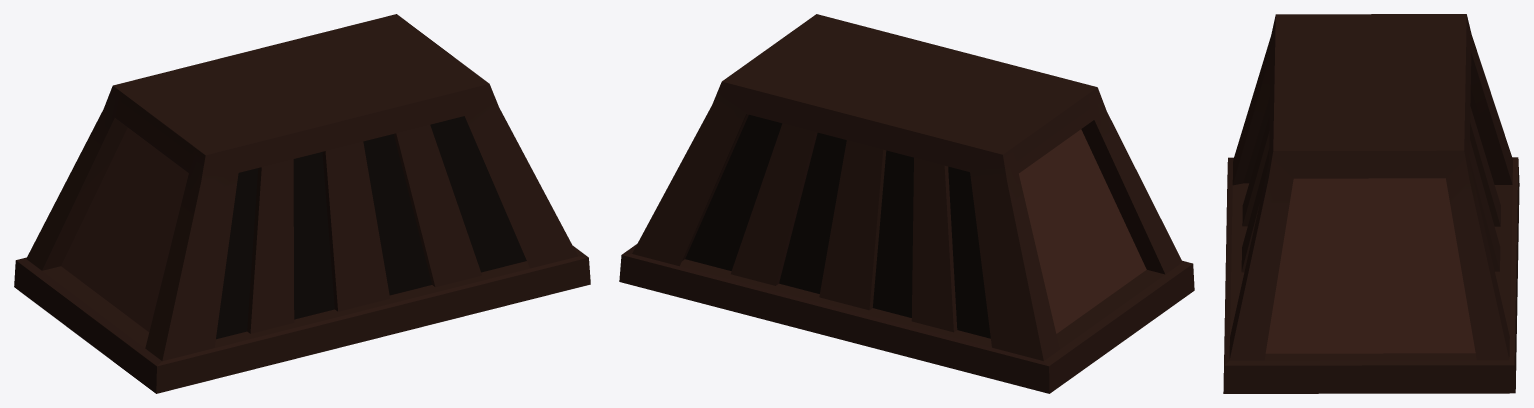
File: chest_base.obj
3 views of the same model, side by side, from view 1: azimuth 30°, elevation 25°; view 2: azimuth 150°, elevation 25°; view 3: azimuth 270°, elevation 25° (orthographic).
Parts seen in each view (by area): view 1: obj4.002; view 2: obj4.002; view 3: obj4.002.
Part boxes in pixels (x1,y1,x2,y2): obj4.002: (14, 14, 590, 393); obj4.002: (619, 14, 1194, 393); obj4.002: (1223, 14, 1519, 393).
Size of the model in its own units: 2.62 by 1.2 by 1.52.
